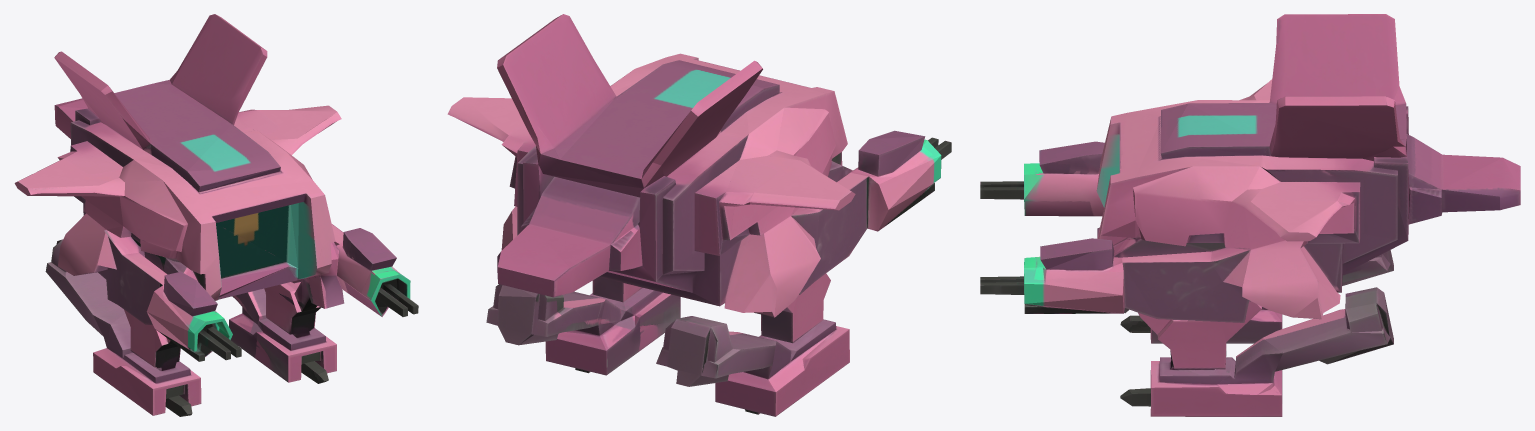
The model's file is mech.glb.
3 renders of one model, left to right at view 1: azimuth 30°, elevation 25°; view 2: azimuth 150°, elevation 25°; view 3: azimuth 270°, elevation 25°, orthographic. The views are drawn at different scales.
Bounding box in the file's own units: 1.39 × 1.24 × 1.9.
1 material, 1 textured.
